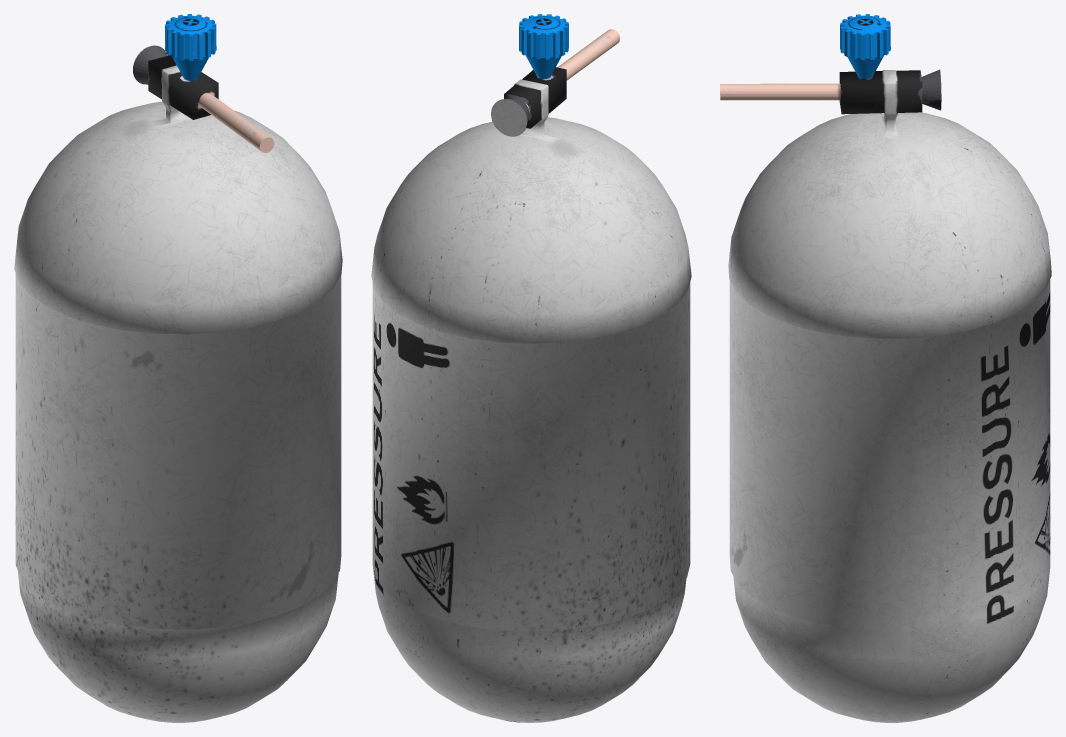
Rendered from O2Tank.fbx.
3 views of the same model, side by side, from view 1: azimuth 30°, elevation 25°; view 2: azimuth 150°, elevation 25°; view 3: azimuth 270°, elevation 25° (orthographic). The views are drawn at different scales.
Visible parts, largest first — view 1: O2Tank_Empty; view 2: O2Tank_Empty; view 3: O2Tank_Empty.
Boxes of the visible parts, x1=… form: O2Tank_Empty: x1=14, y1=14, x2=342, y2=722; O2Tank_Empty: x1=371, y1=14, x2=691, y2=722; O2Tank_Empty: x1=720, y1=14, x2=1051, y2=722.
Size of the model in its own units: 103 by 240 by 106.
